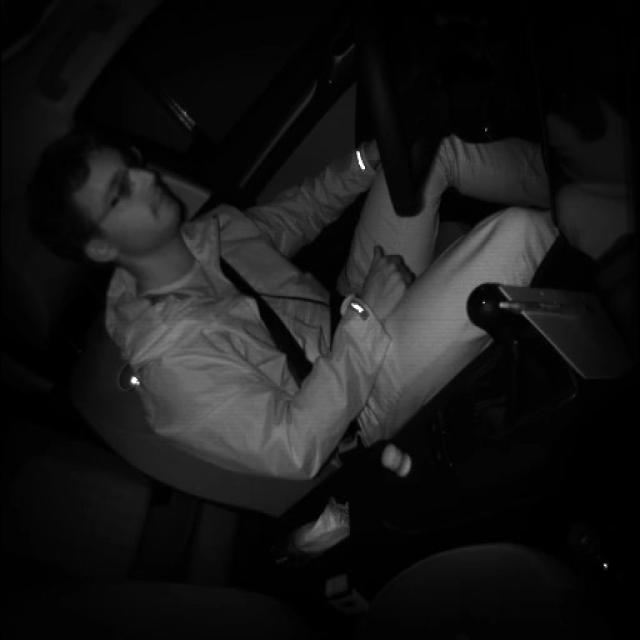pen: (497, 298, 601, 312)
